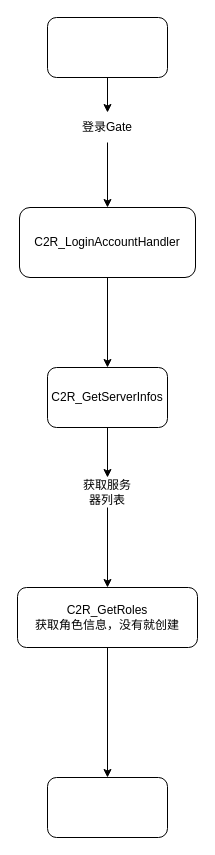
The diagram is 215 pixels wide and 855 high, and some of its shapes have lost their labels. The shapes that lost their labels are listed below. From the top down, each one's centre as x and y in pixels, then its label:
At (107,47): "C2R_LoginAccount".
At (107,807): "C2R_GetRealmKey".
